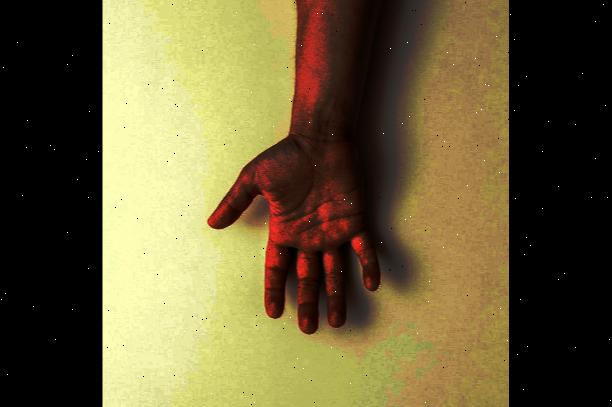Paper: (205, 130, 384, 337)
